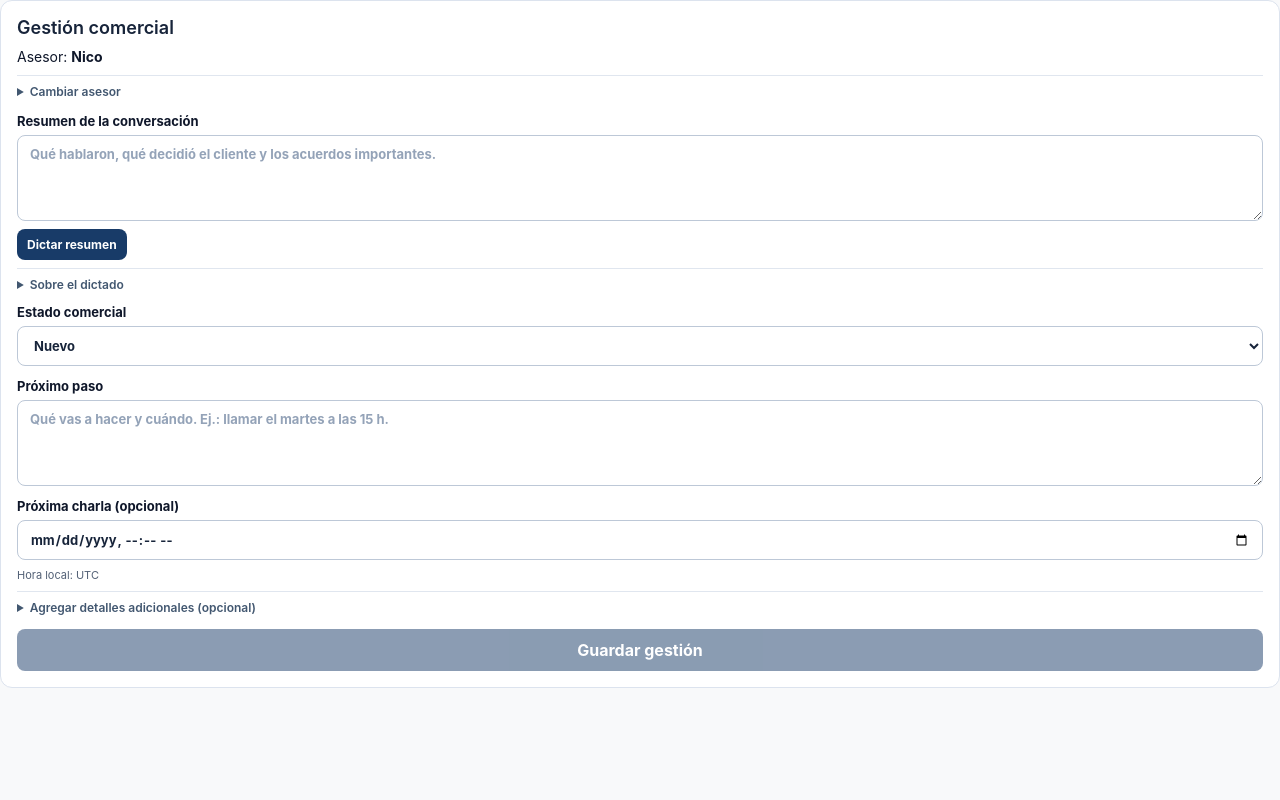
Test case: summary and next step are required even when the state is unchanged
The width and height of the screenshot is (1280, 800).
Check: the dropdown labelled "Estado comercial" is shown, box [17,326,1263,366]
Check: the button "Guardar gestión" is disabled, box [17,629,1263,671]
Replace the text in the text box labelled "Resumen de la conversación" with "El cliente está evaluando dos canchas.": (640, 178) [17,135,1263,221]
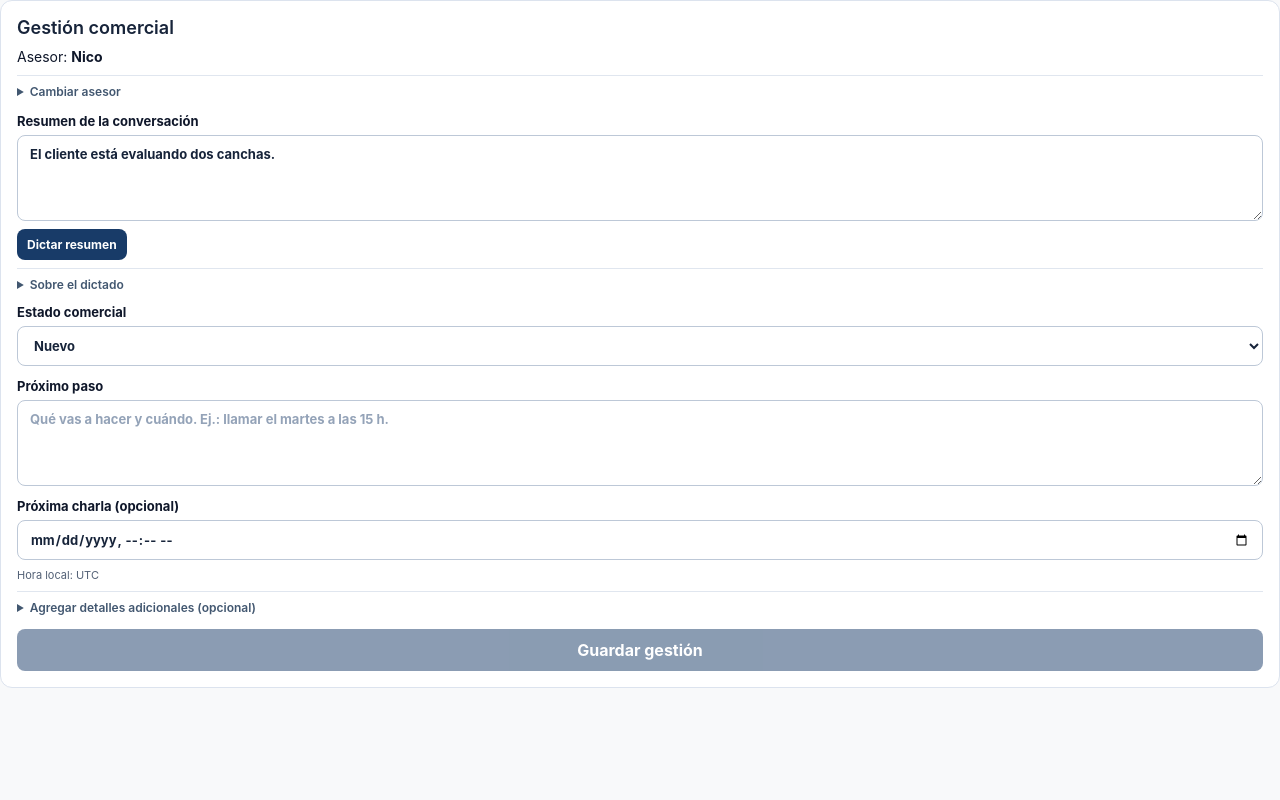
Check: the button "Guardar gestión" is disabled, box [17,629,1263,671]
In the text box labelled "Próximo paso": (640, 443) [17,400,1263,486], type "Contactar el viernes."
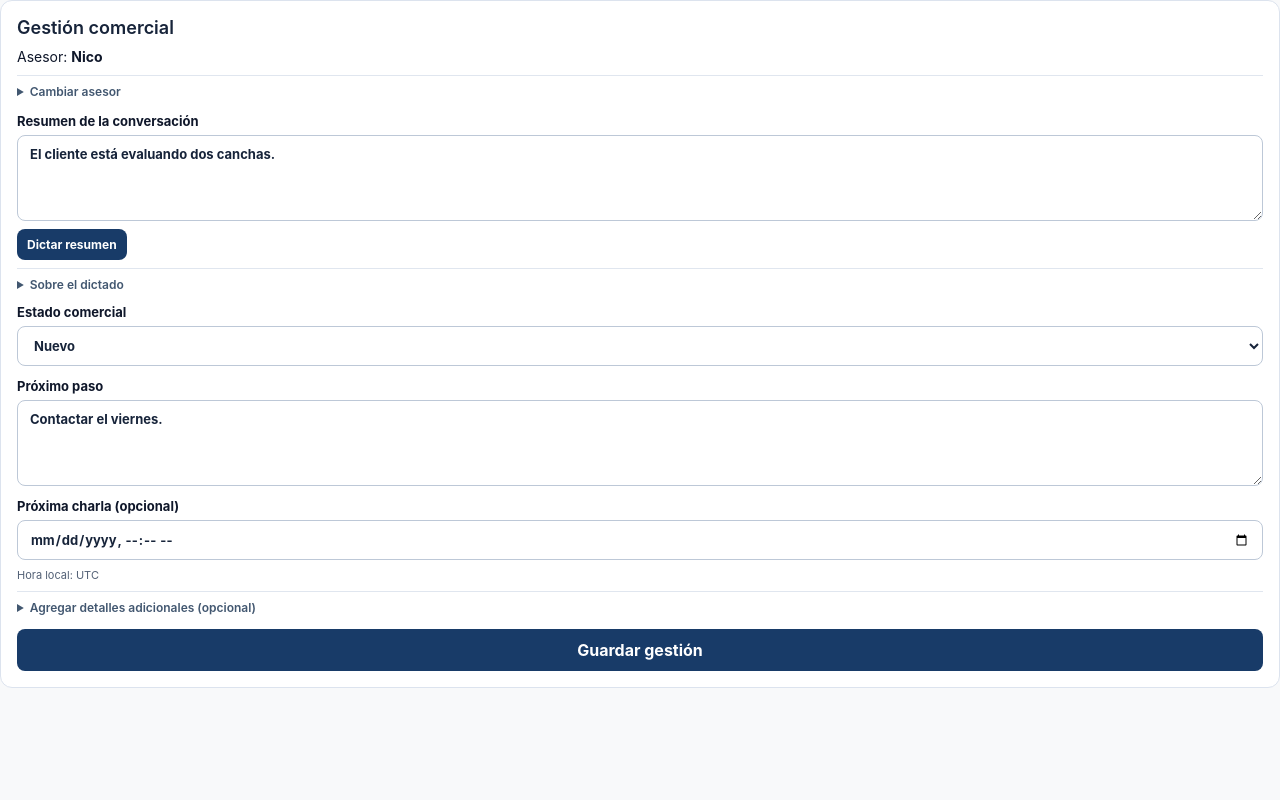
Check: the button "Guardar gestión" is enabled, box [17,629,1263,671]
